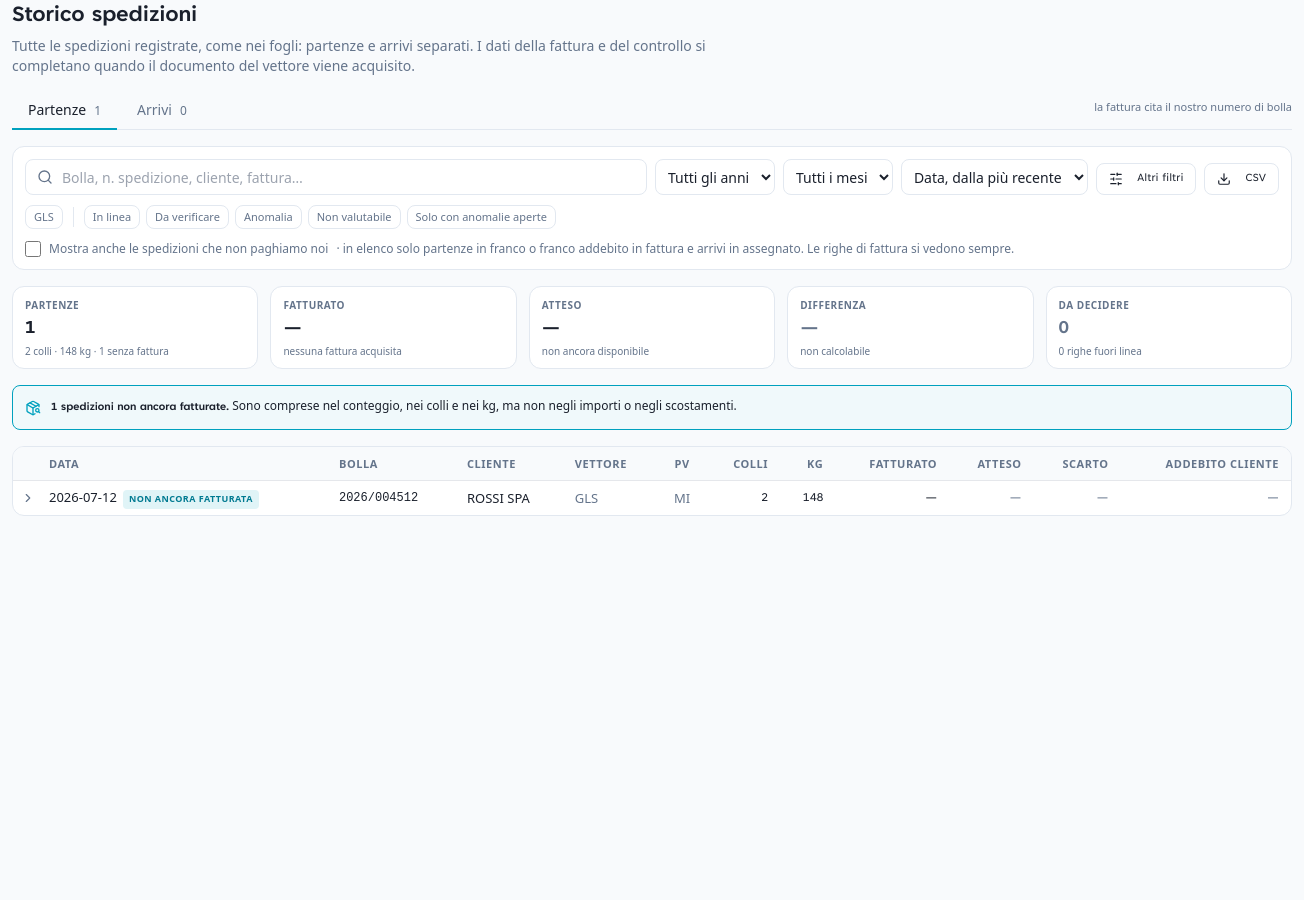
Test: StoricoView con spedizione senza fattura › nel dettaglio spiega che importi e controllo arriveranno con la fattura
Click the text "2026/004512" at (391, 498), box [327,481,455,515]
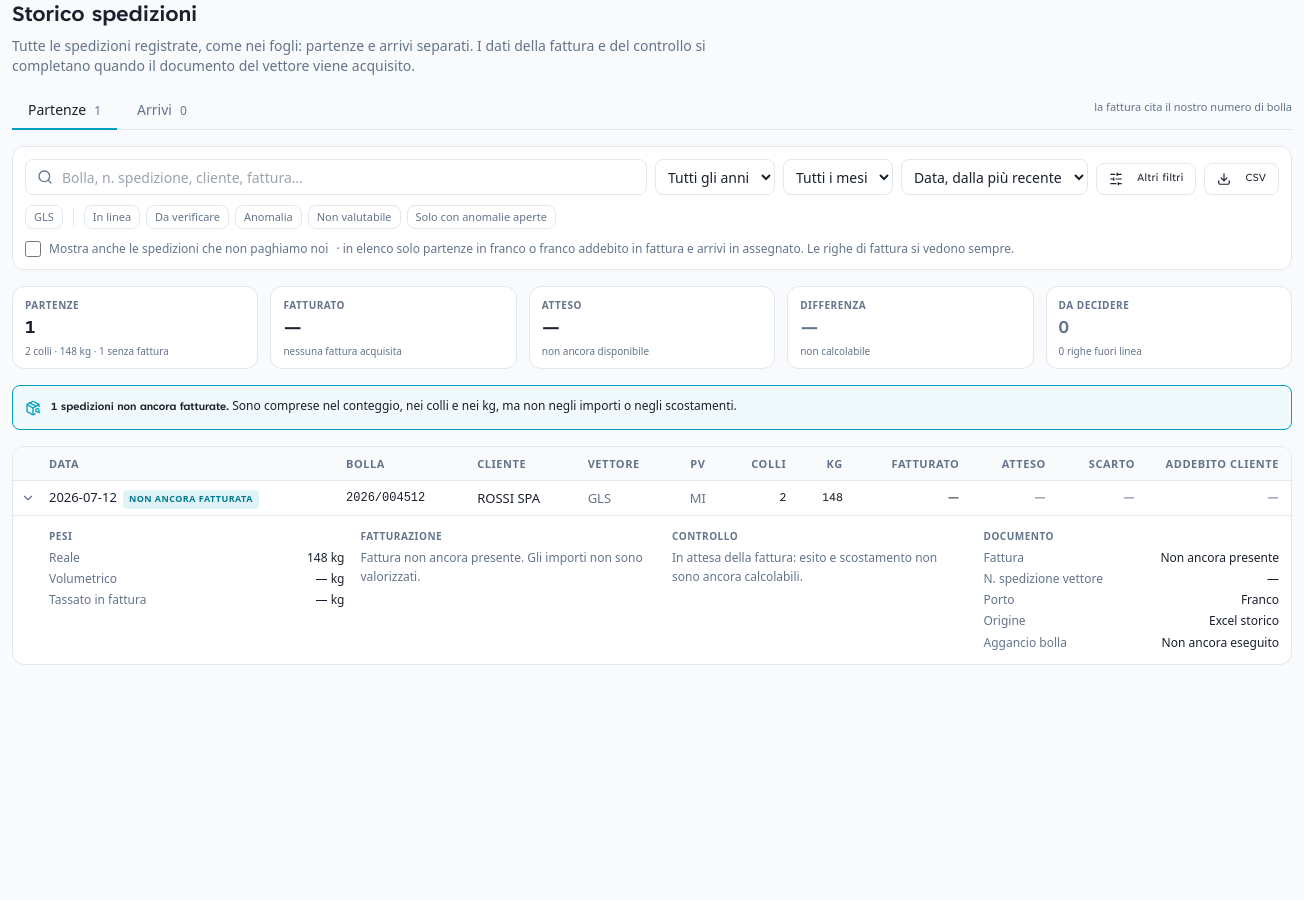
Result: the text "Fattura non ancora presente. Gli importi non sono valorizzati." is shown at [360,548,656,587]
Result: the text "esito e scostamento non sono ancora calcolabili" is shown at [672,549,937,585]
Result: the text "Excel storico" is shown at [1209,611,1279,631]
